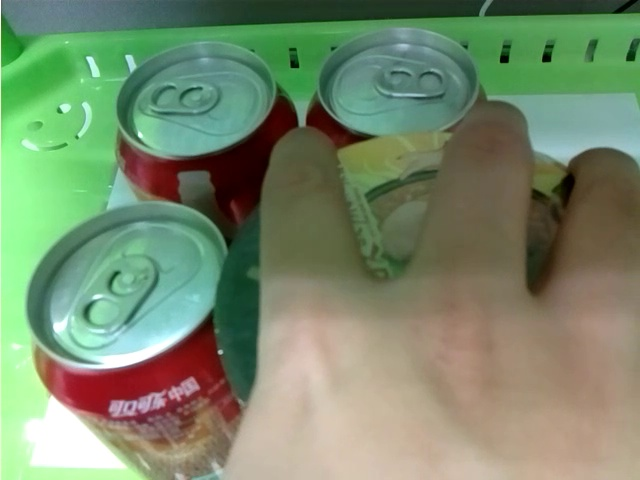cocacola: (26, 203, 243, 480), (116, 41, 301, 204), (301, 28, 490, 129)
hand: (259, 102, 640, 480)
noodles: (346, 124, 568, 298)
